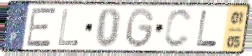0: (95, 6, 123, 49)
C: (163, 7, 194, 50)
E: (25, 7, 58, 49)
G: (125, 6, 156, 50)
L: (195, 10, 219, 49), (57, 8, 80, 47)
